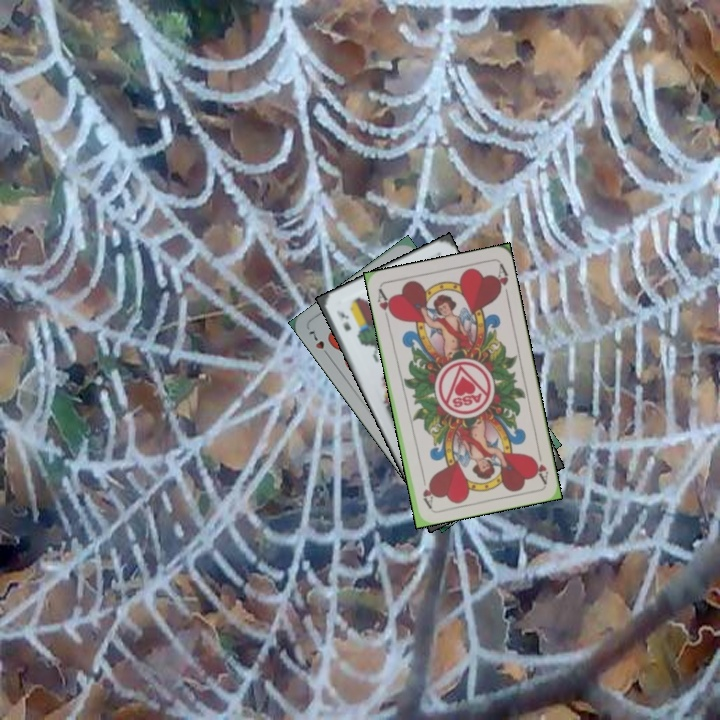EK: (332, 306, 354, 334)
H7: (305, 327, 333, 361)
HA: (373, 285, 396, 325), (528, 445, 551, 485)
